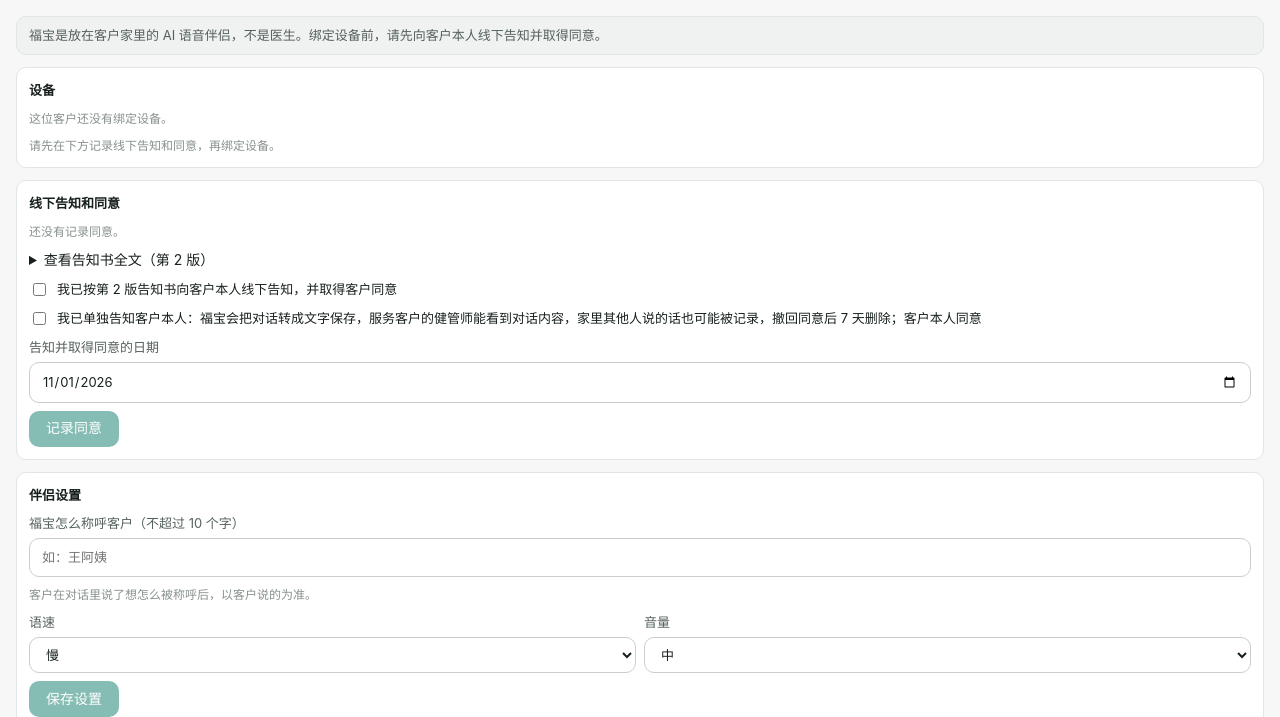
Test case: 伴侣视图 › 没有同意时不能绑定；勾选确认后按当前告知书版本记录同意
expect the text "请先在下方记录线下告知和同意，再绑定设备。" is shown: met, box [29, 138, 281, 153]
expect the button "记录同意" is disabled: met, box [29, 410, 119, 446]
Click the checkbox labelled "我已按第 2 版告知书向客户本人线下告知，并取得客户同意" at (40, 290), box [33, 283, 46, 296]
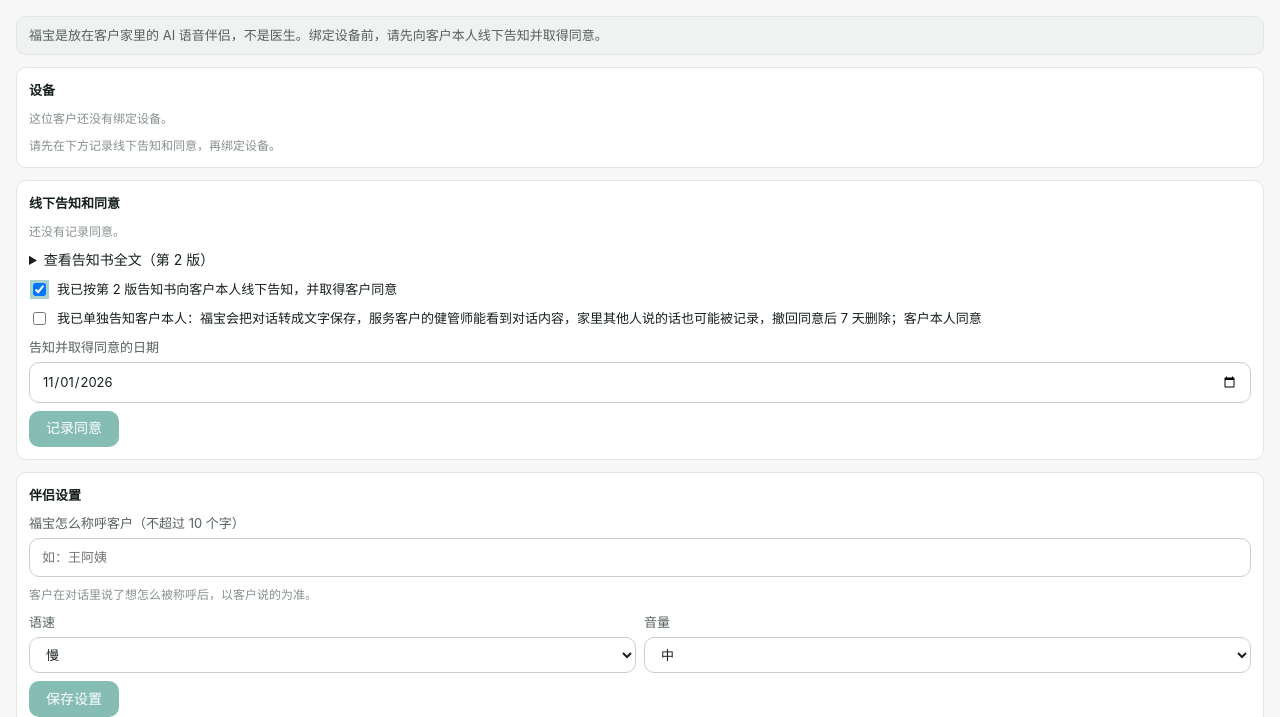
expect the button "记录同意" is disabled: met, box [29, 410, 119, 446]
Click the checkbox labelled "福宝会把对话转成文字保存" at (40, 319), box [33, 312, 46, 325]
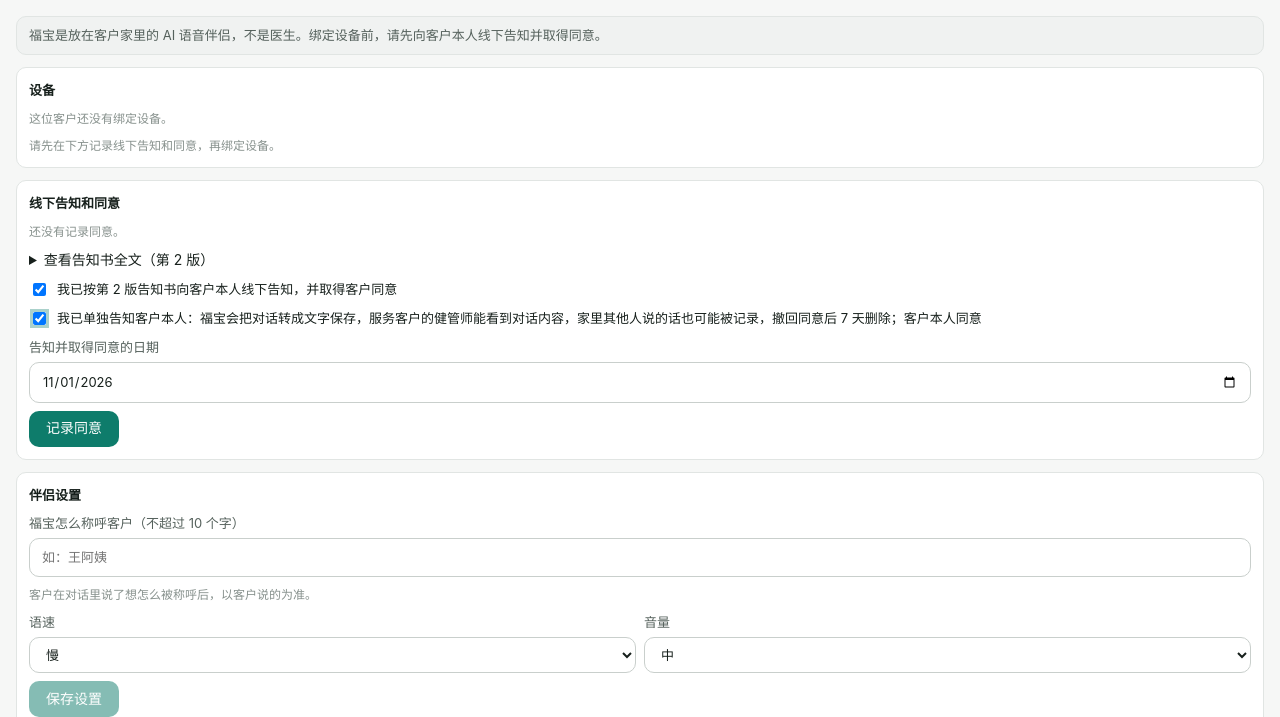
Click the button "记录同意" at (74, 428), box [29, 410, 119, 446]
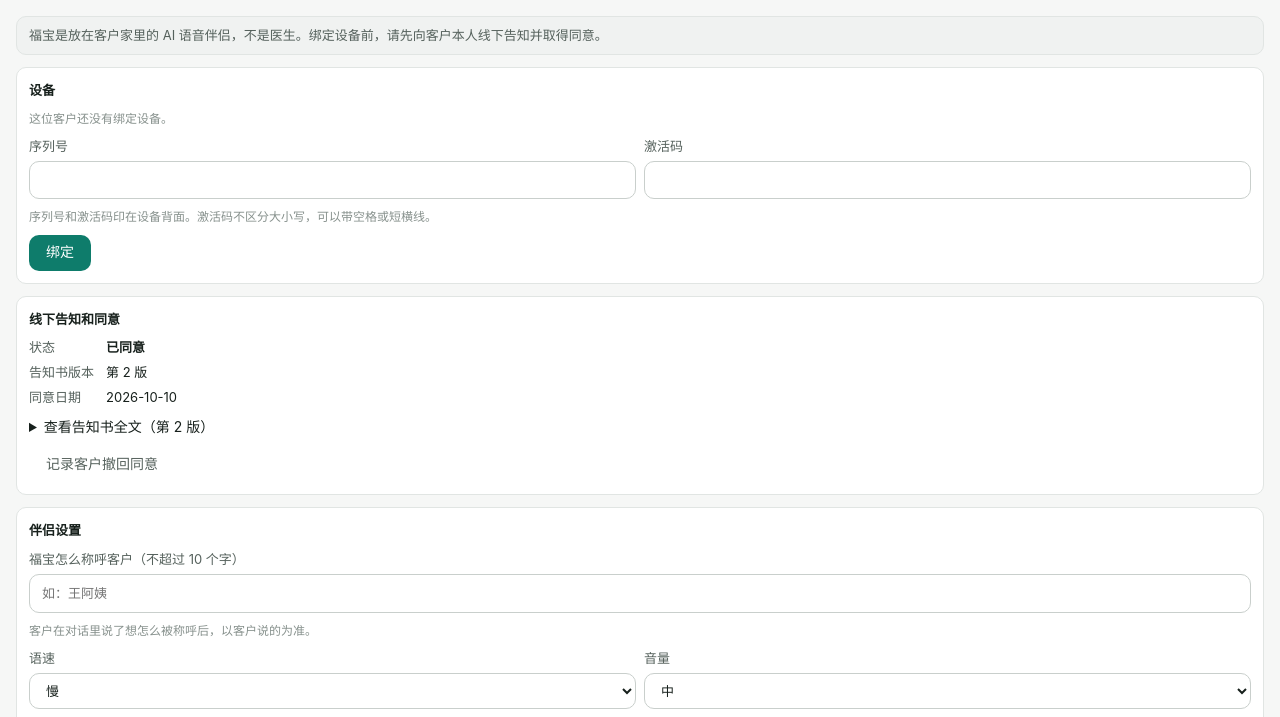
expect the form named "绑定设备" is shown: met, box [29, 136, 1251, 271]
